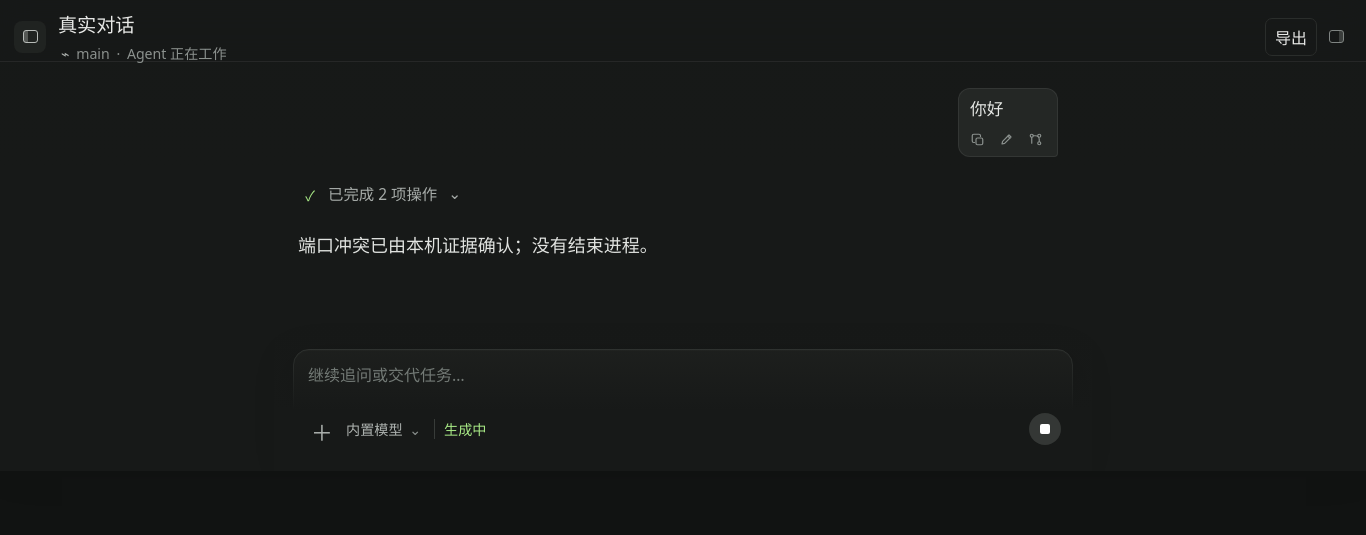
conversation timeline projection › renders bounded local-port evidence without a command line or executable path
The image size is (1366, 535).
Click the button "✓ 已完成 2 项操作 ⌄": (384, 194) [299, 177, 468, 210]
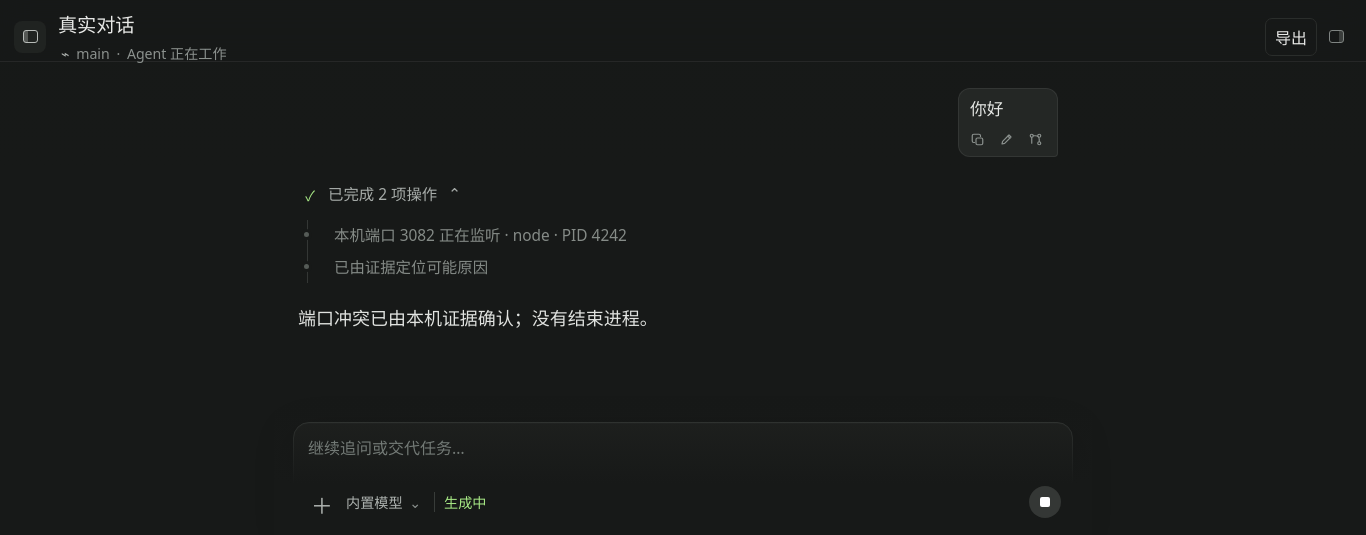
Now the text "本机端口 3082 正在监听 · node · PID 4242" is shown, box [334, 225, 627, 246]
